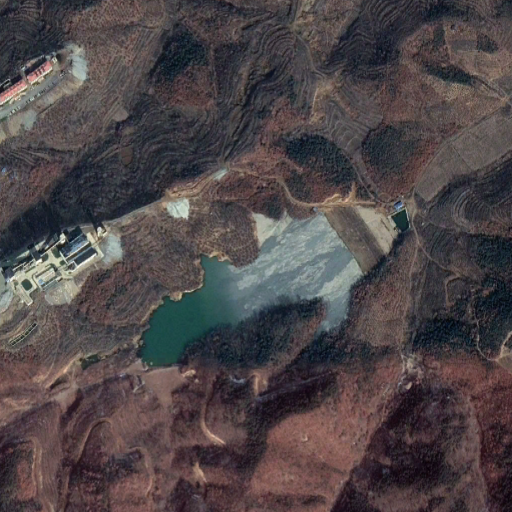tp: (132, 187, 399, 369)
